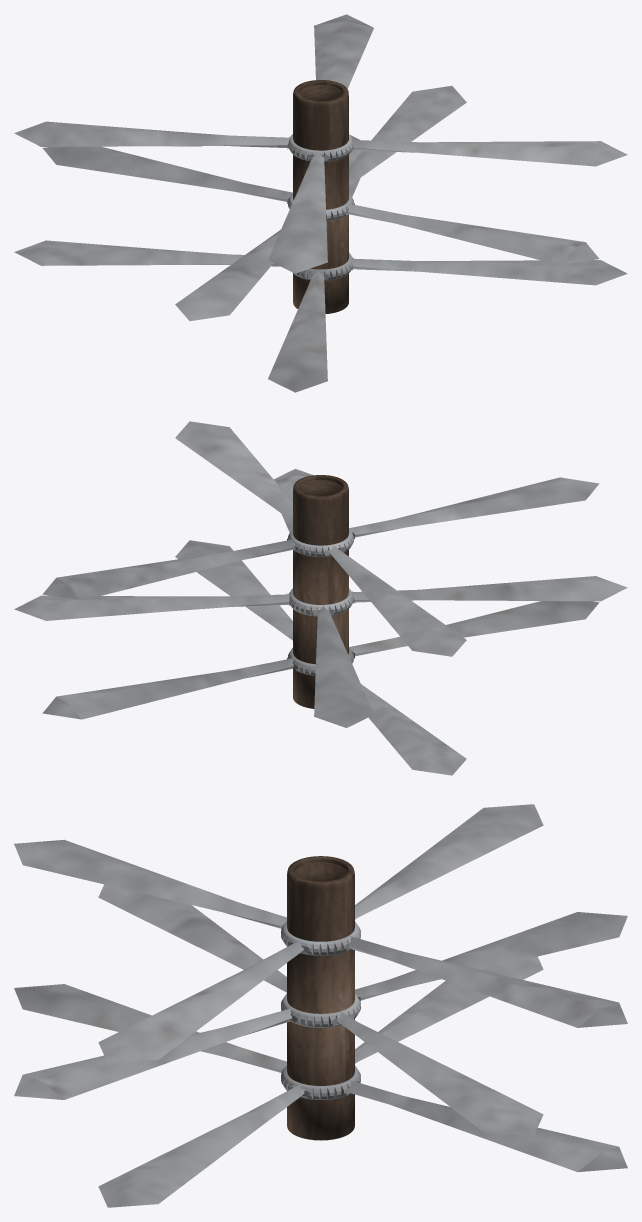
Rendered from blade trap_Real Fianl.fbx.
3 views of the same model, one above another, from view 1: azimuth 30°, elevation 25°; view 2: azimuth 150°, elevation 25°; view 3: azimuth 270°, elevation 25° (orthographic). The views are drawn at different scales.
Parts seen in each view (by area): view 1: bench; view 2: bench; view 3: bench.
Boxes of the visible parts, x1,y1,x2,y2 form: bench: (14,14,627,392); bench: (14,421,627,775); bench: (14,804,627,1207).
Bounding box in the file's own units: 435 × 200 × 435.
Materials: 1 (1 with a texture image).
